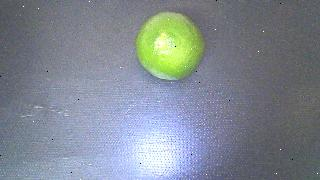EXPORTACION: (136, 12, 205, 80)
